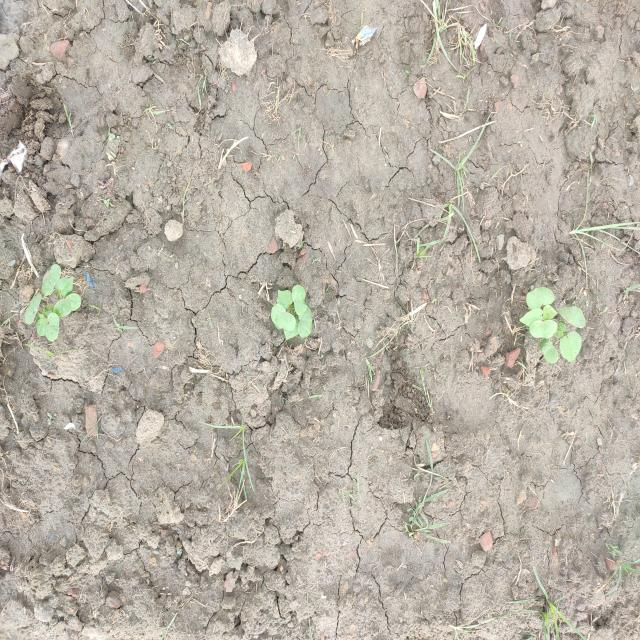seedling: (559, 332, 581, 363), (270, 305, 296, 331), (54, 293, 82, 317), (559, 306, 586, 329), (43, 264, 61, 296), (526, 288, 554, 308), (25, 293, 41, 324), (530, 320, 557, 338), (540, 339, 559, 364), (292, 284, 306, 315), (298, 306, 312, 337), (520, 309, 543, 326), (46, 313, 59, 341), (56, 278, 73, 296), (278, 290, 292, 309), (543, 305, 558, 320), (38, 318, 48, 335)
